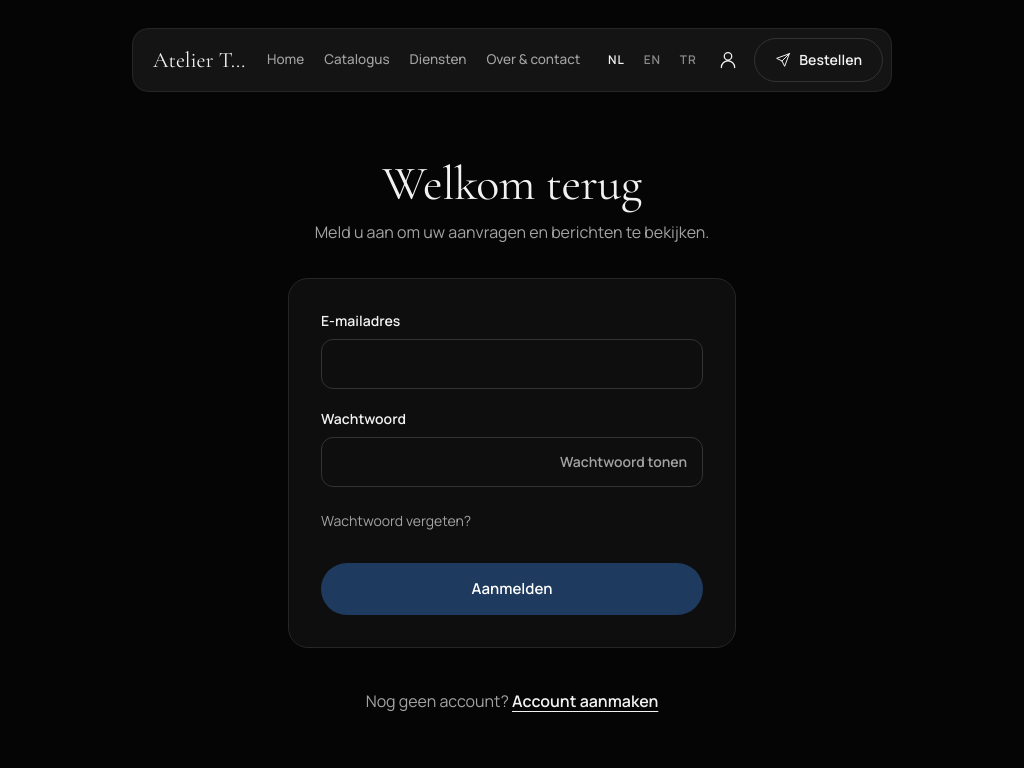
login › shows one generic message for wrong credentials
Type "anna@example.com" into the field labelled "E-mailadres" at (512, 364), box [321,339,703,389]
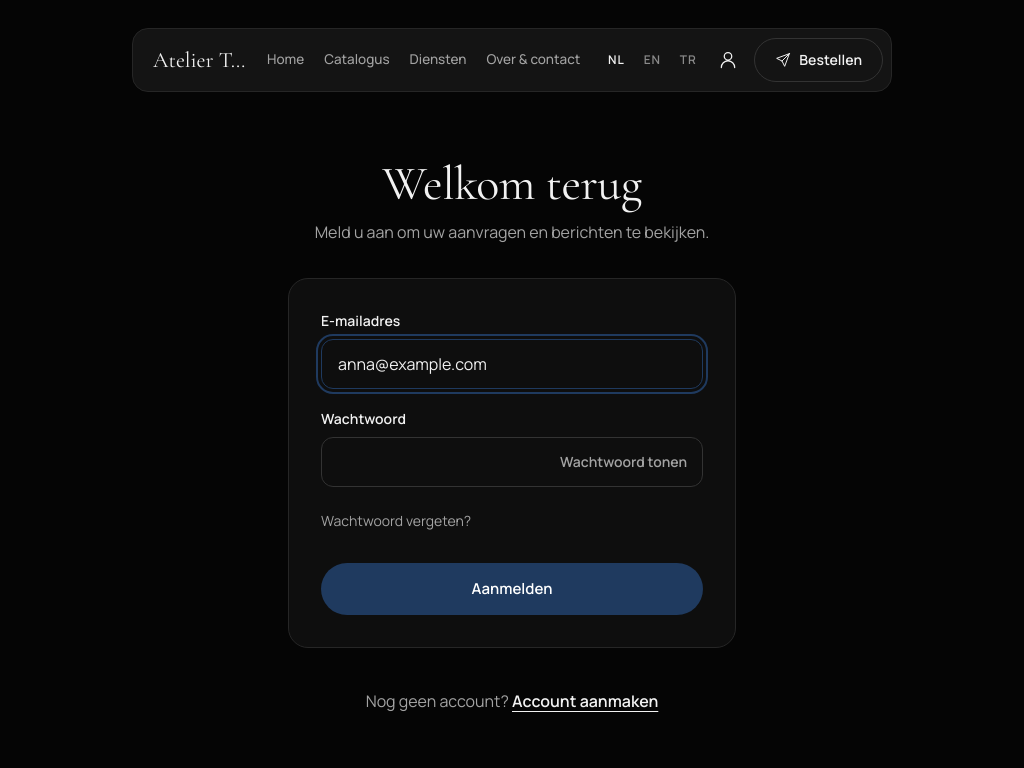
Type "wrong-password" into the password field labelled "Wachtwoord" at (512, 462), box [321,437,703,487]
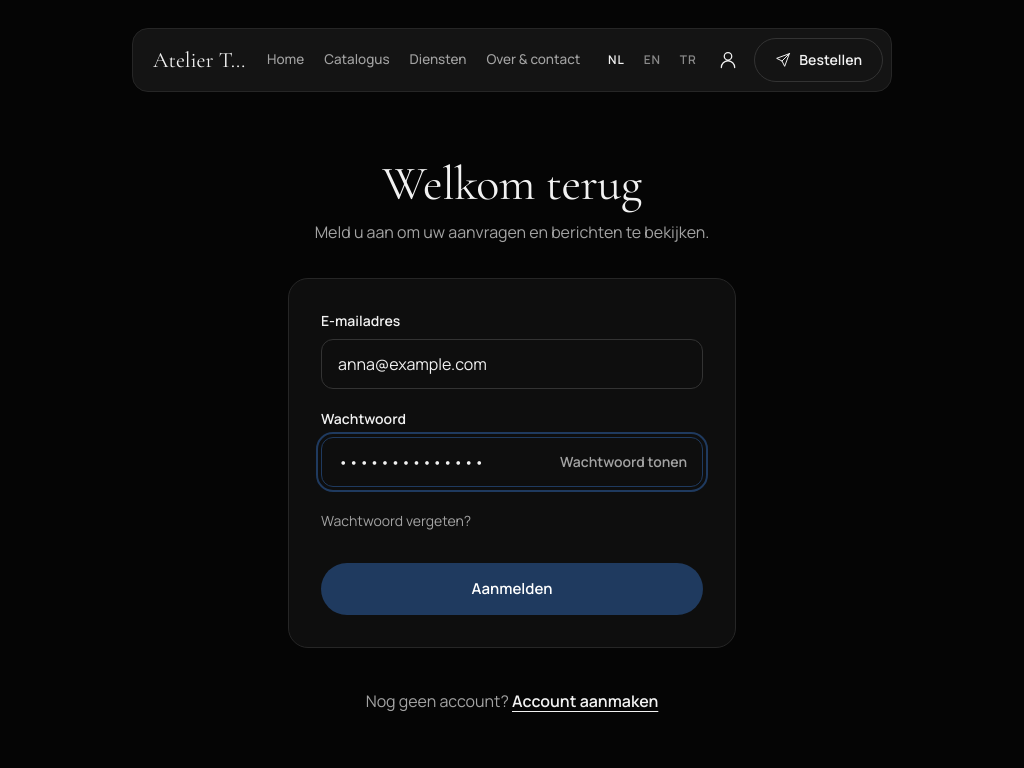
Click the button "Aanmelden" at (512, 589), box [321,563,703,615]
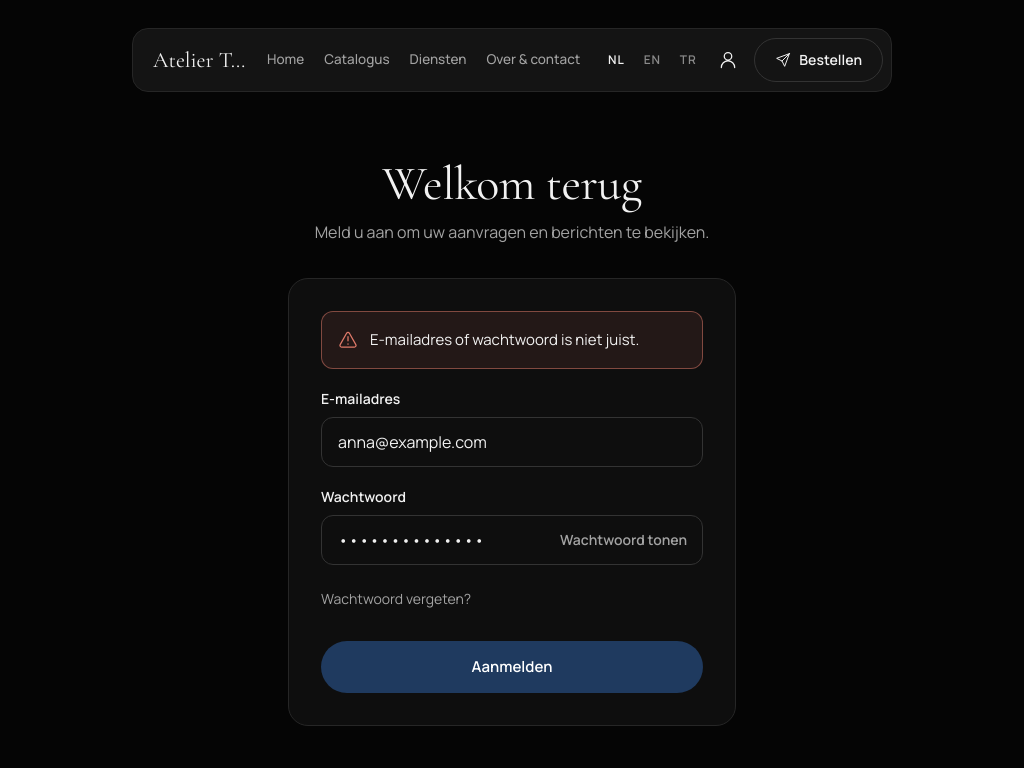
Expected: the message reads "E-mailadres of wachtwoord is niet juist.", [370,329,639,350]
